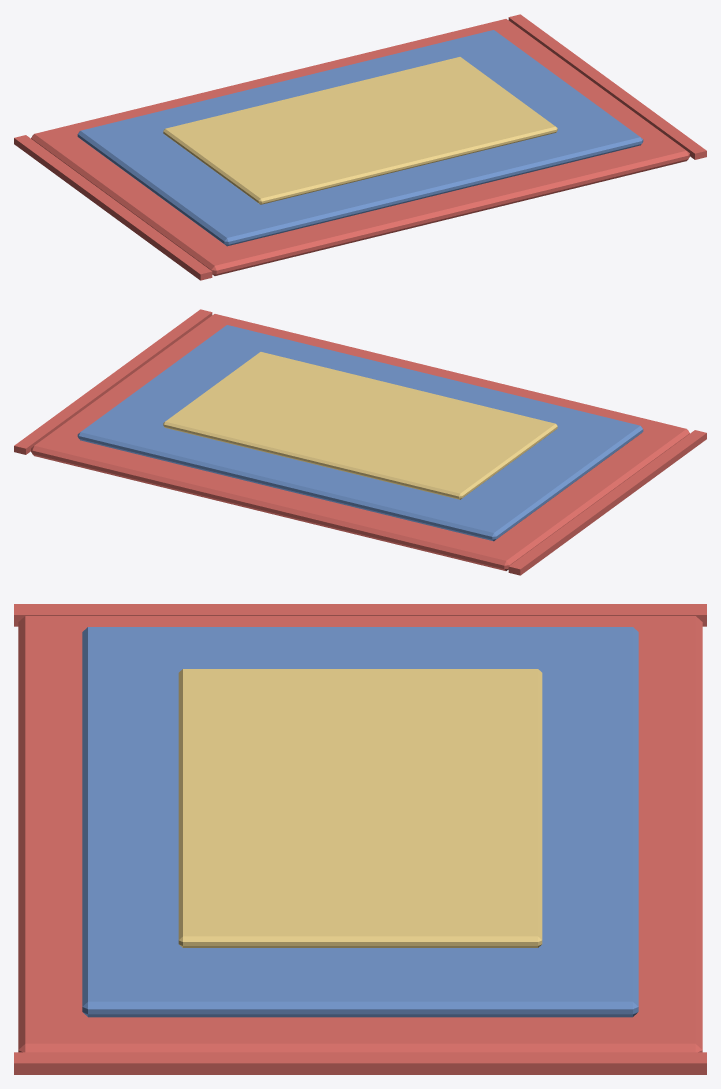
File: rug.glb
3 views of the same model, one above another, from view 1: azimuth 30°, elevation 25°; view 2: azimuth 150°, elevation 25°; view 3: azimuth 270°, elevation 25° (orthographic). The views are drawn at different scales.
Visible parts, largest first — view 1: rug; view 2: rug; view 3: rug.
Boxes of the visible parts, box(x1,y1,x2,y2) form: rug: box(14, 14, 706, 280); rug: box(14, 309, 706, 575); rug: box(14, 604, 706, 1074).
Bounding box in the file's own units: 2.54 × 0.12 × 1.62.
